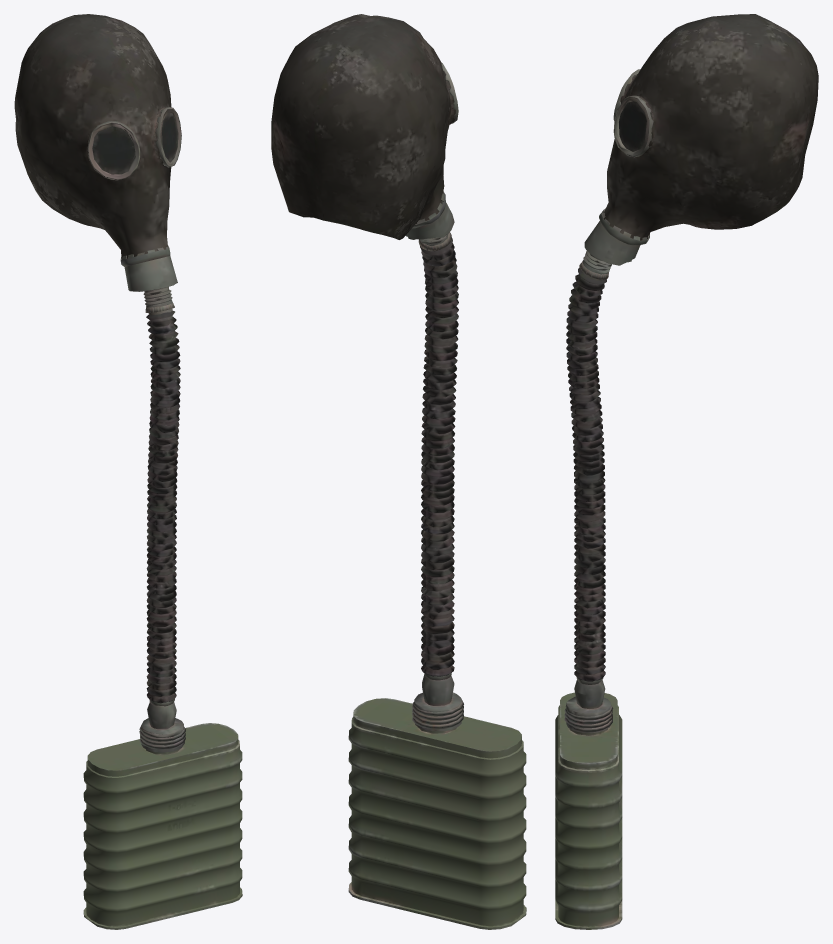
The model's file is old_gas_mask.2a445334.glb.
The picture shows the model from 3 angles, left to right: view 1: azimuth 30°, elevation 25°; view 2: azimuth 150°, elevation 25°; view 3: azimuth 270°, elevation 25°; orthographic projection. The views are drawn at different scales.
Visible parts, largest first — view 1: old_gas_mask; view 2: old_gas_mask; view 3: old_gas_mask.
Boxes of the visible parts, x1,y1,x2,y2 form: old_gas_mask: (14, 14, 242, 929); old_gas_mask: (271, 14, 526, 929); old_gas_mask: (555, 14, 818, 929).
Bounding box in the file's own units: 0.187 × 1 × 0.2742.
Materials: 1 (1 with a texture image).
